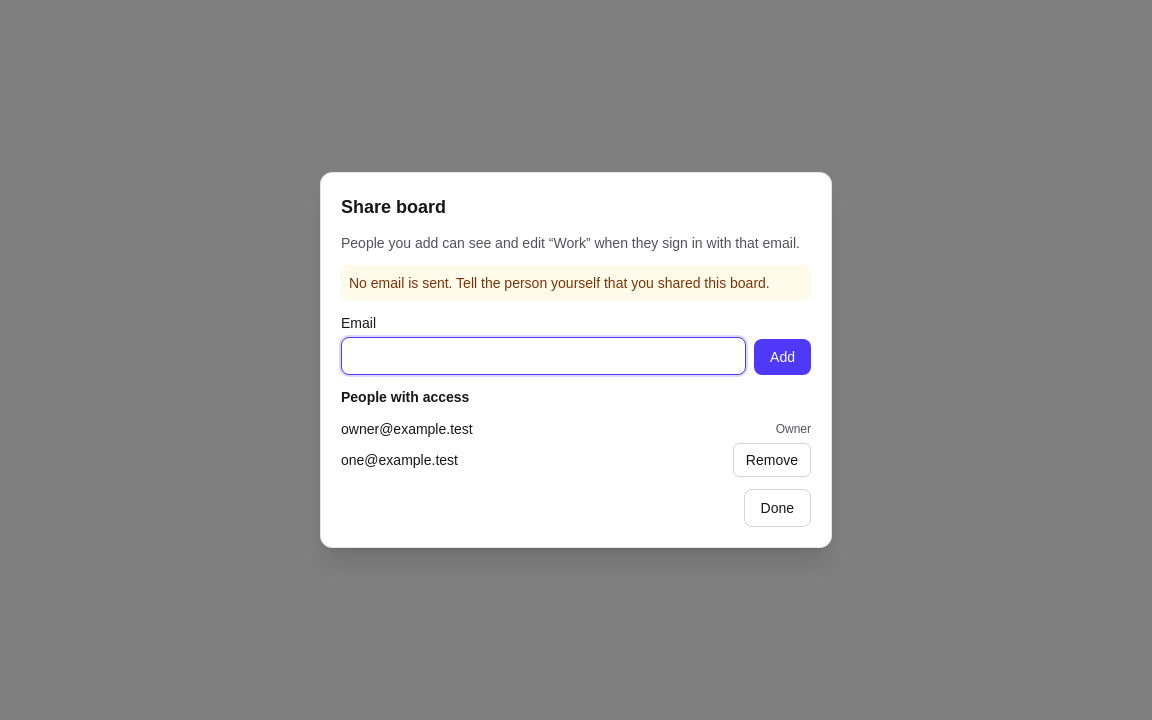
Test: <ShareDialog /> › adds a person and clears the field
Expected: the text "one@example.test" is shown, [341, 450, 458, 470]
Step 1. Type "two@example.test" into the field labelled "Email" → (544, 356), box [341, 337, 746, 375]
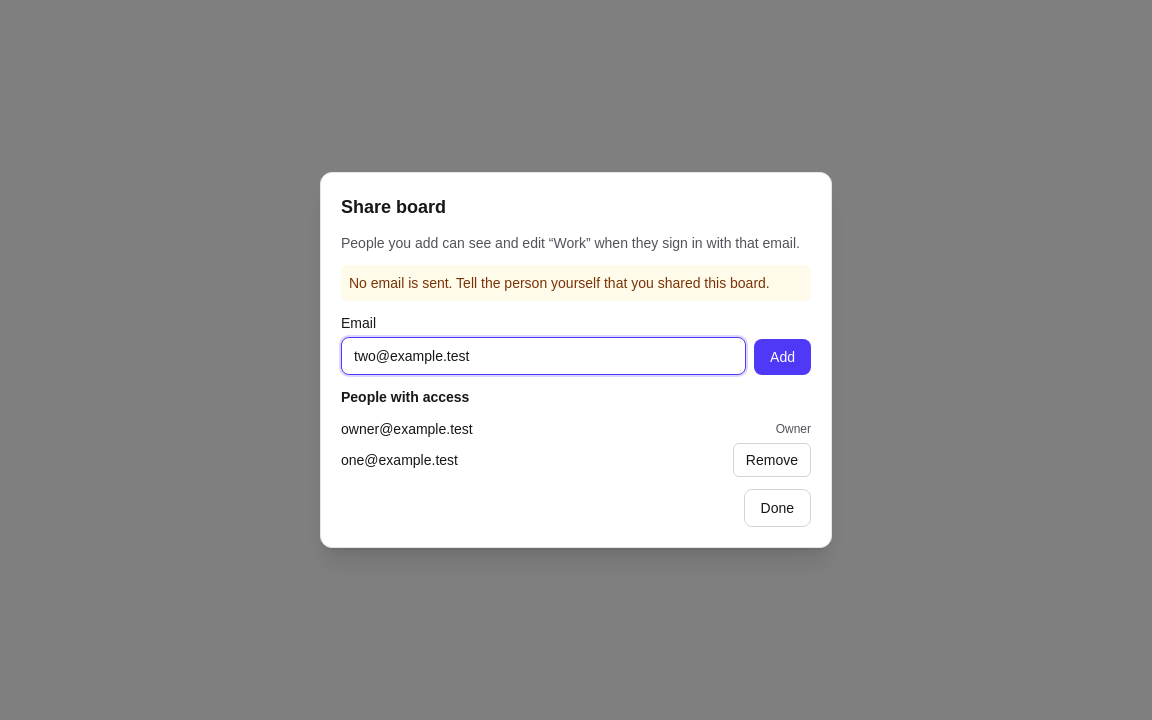
Step 2. Click the button "Add" → (783, 357), box [754, 339, 811, 375]
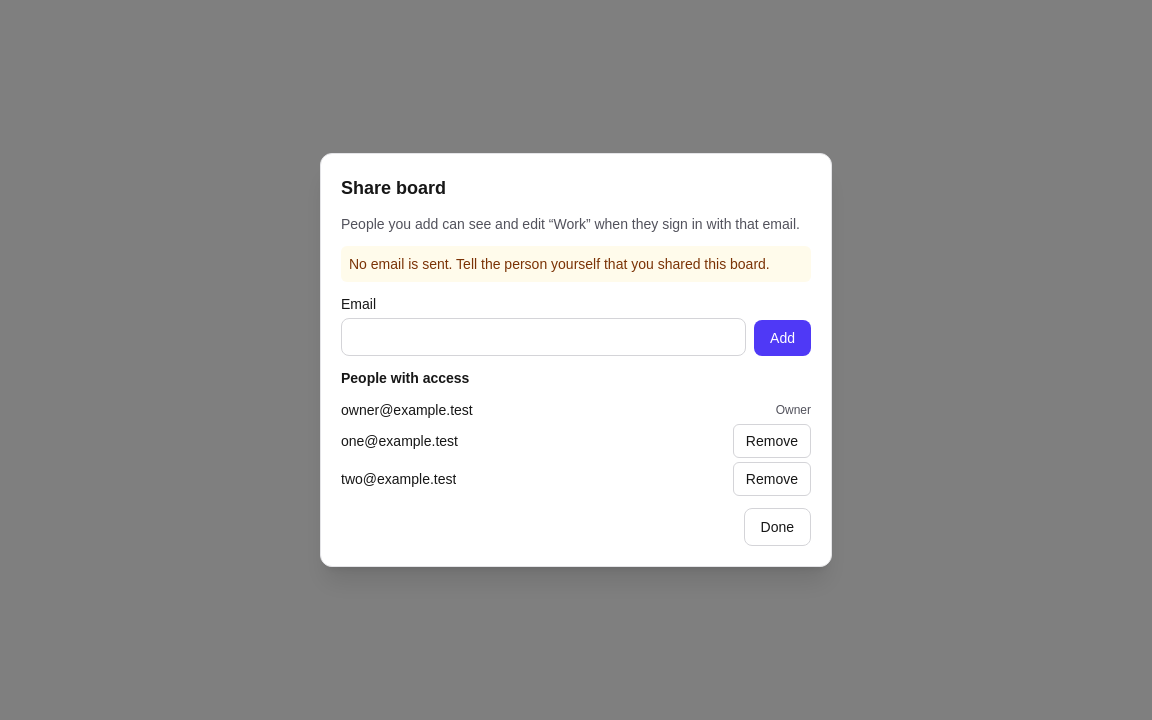
Expected: the text "two@example.test" is shown, [341, 469, 456, 489]
Expected: the field labelled "Email" is empty, [341, 318, 746, 356]
